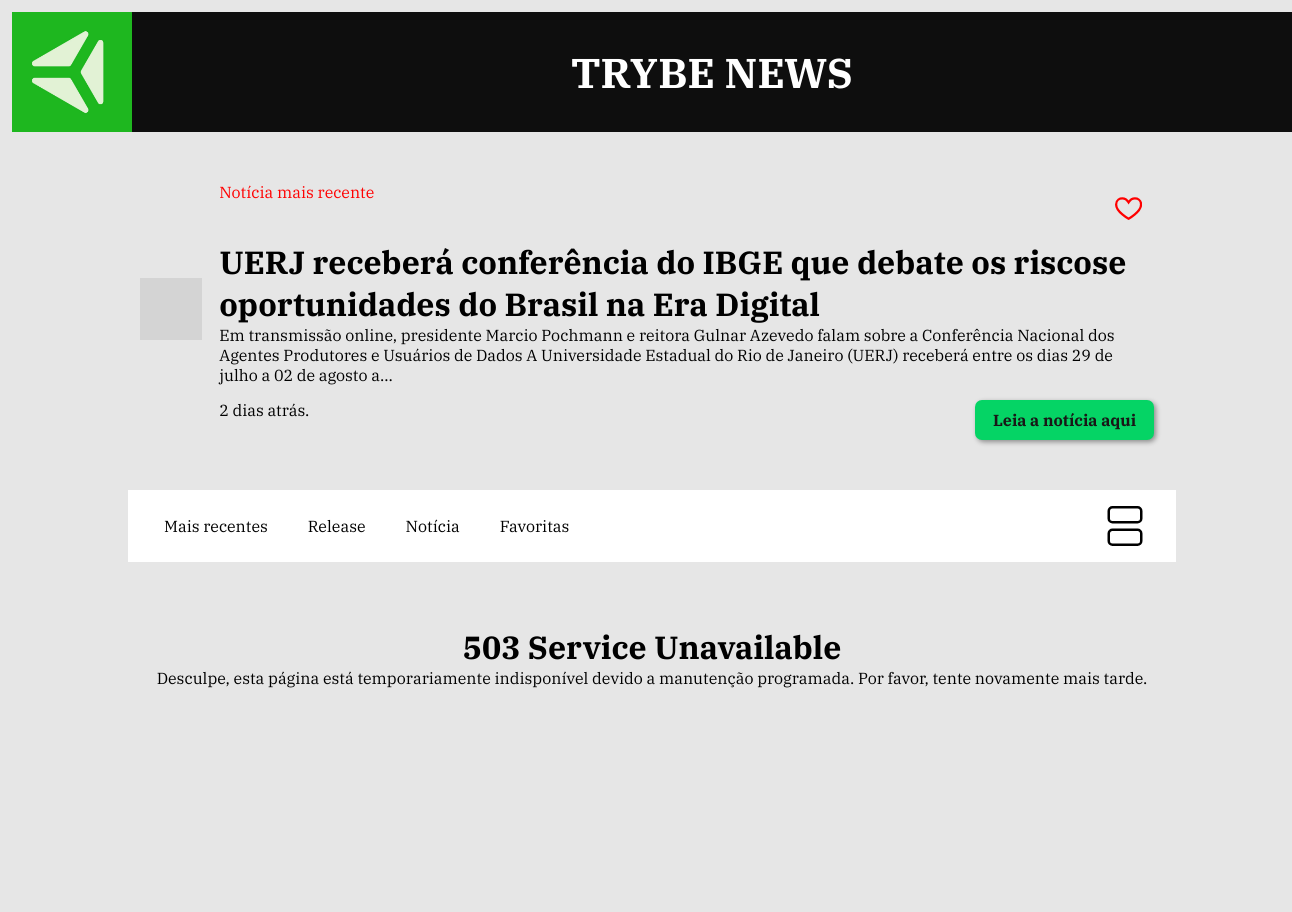
Scenario: Renderização componente Nav › ao clicar no lins para a pagina "Favoritas", deve renderizar o text "Nenhum favorito foi adicionado.", caso não tenha cido nenhuma noticia favoritada
Click the link "Favoritas" at x=534, y=526, box x1=500 y1=510 x2=569 y2=542
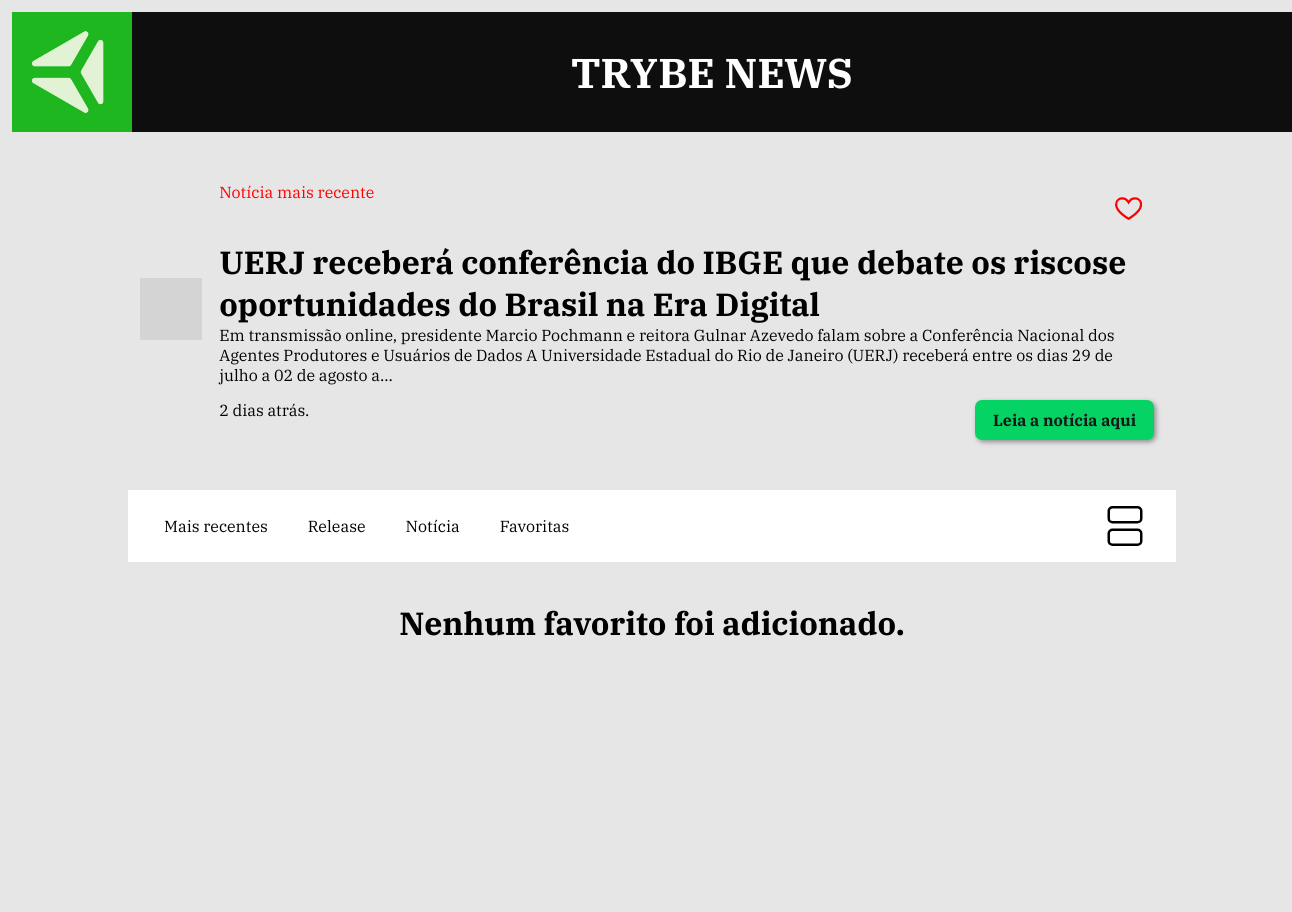
Expected: the heading "Nenhum favorito foi adicionado." is shown, x1=399 y1=602 x2=905 y2=644
